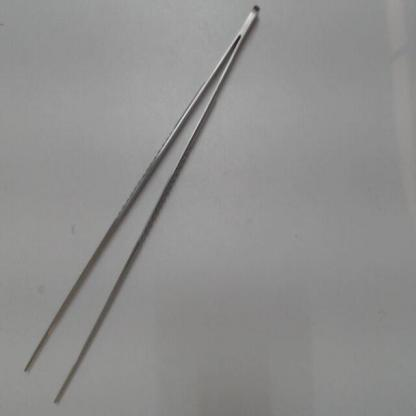DeBakey Dissector: (22, 0, 268, 405)
